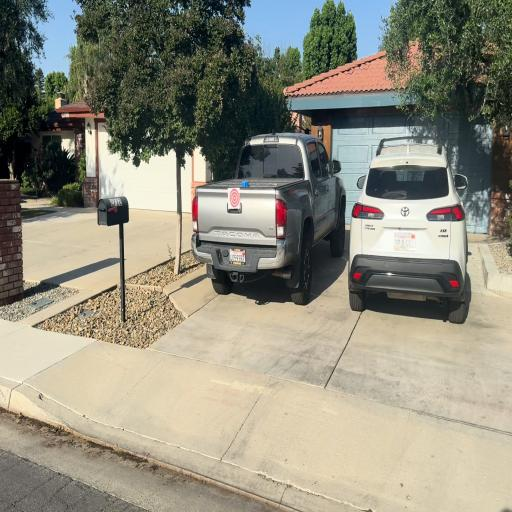bullseye: (229, 188, 240, 209)
